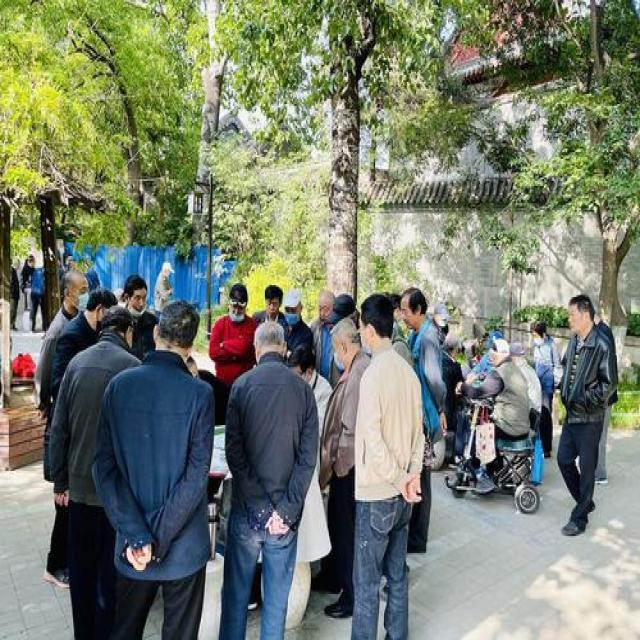wheelchairs: (444, 387, 542, 525)
